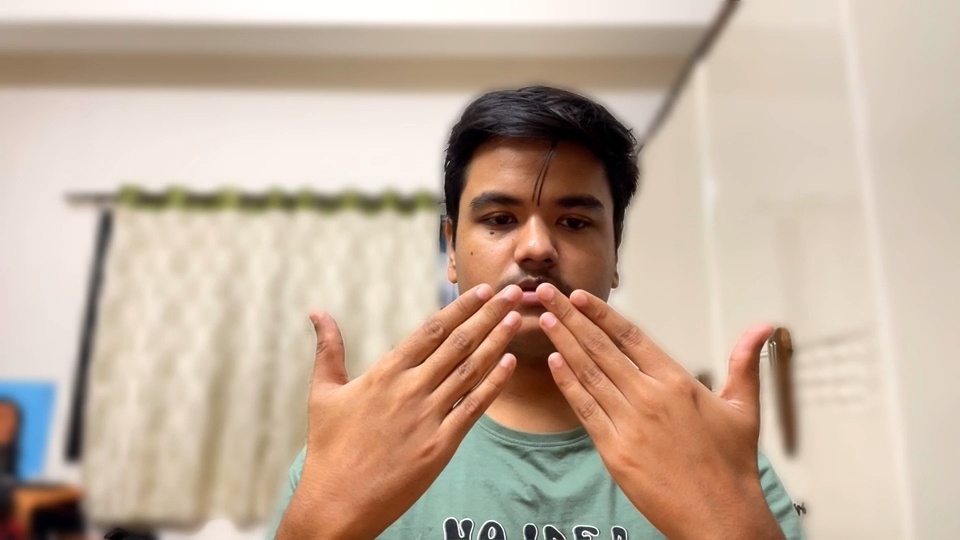ThankYou: (275, 277, 788, 536)
